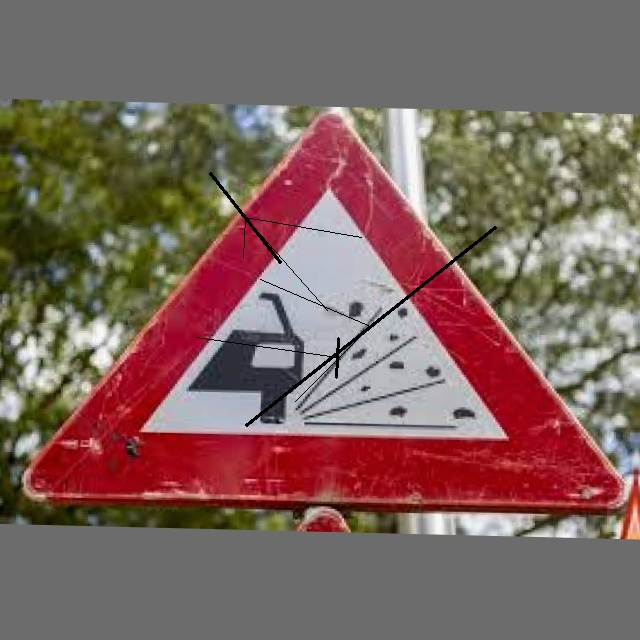Loose_Gravel: (52, 106, 616, 516)
